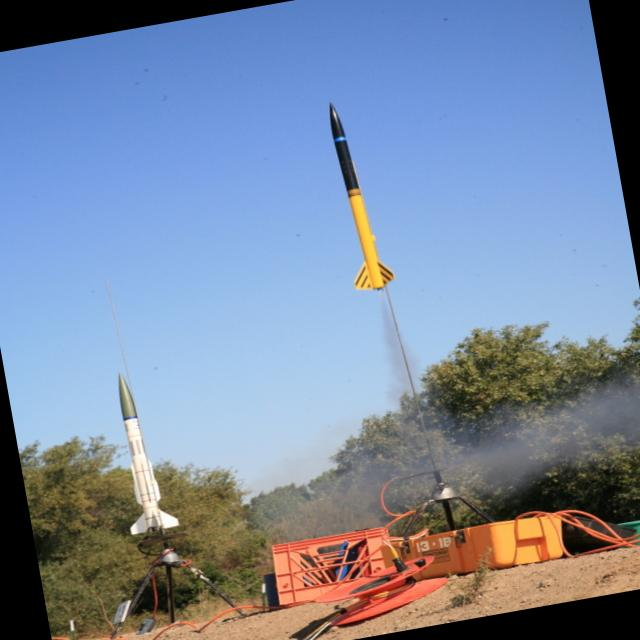rocket: (311, 88, 420, 400)
